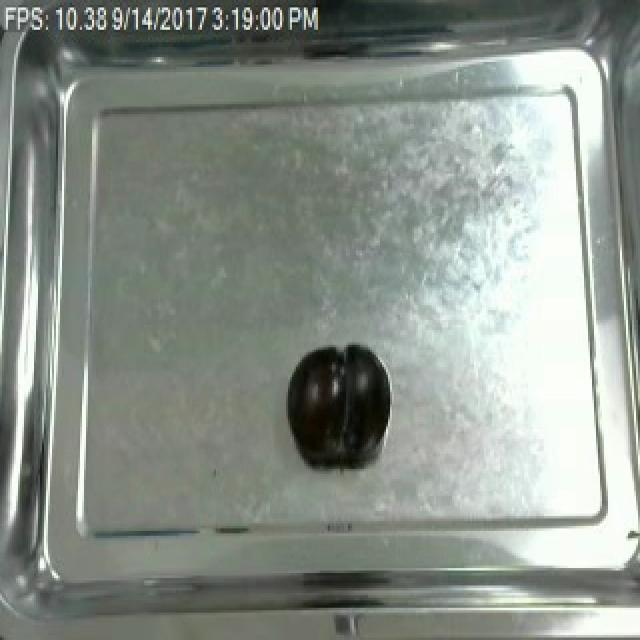Fruit: (284, 340, 388, 466)
